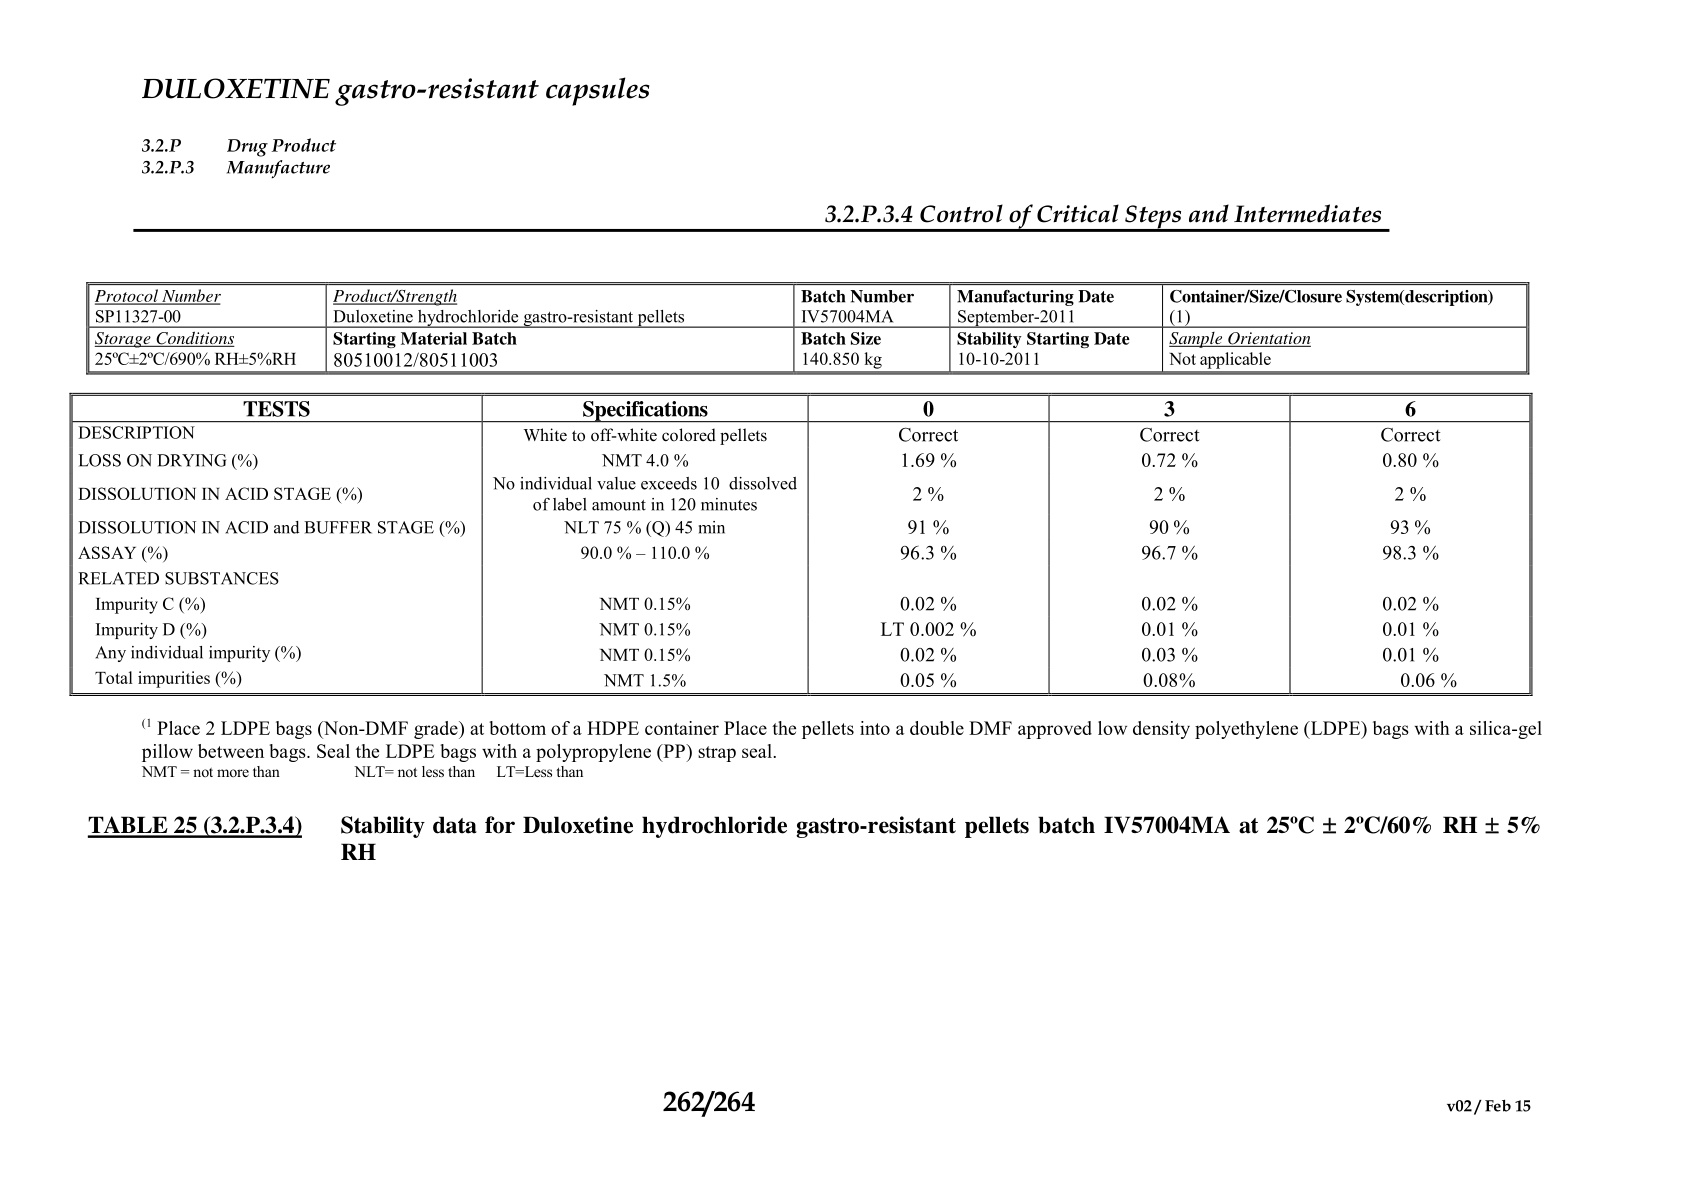full_lined: (86, 282, 1530, 375)
partial_lined: (70, 393, 1533, 697)
